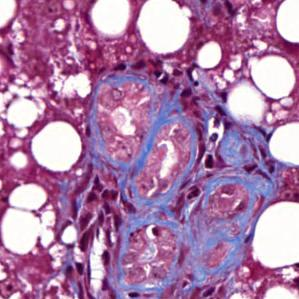steatosis: (30, 120, 92, 179), (137, 0, 193, 58)
